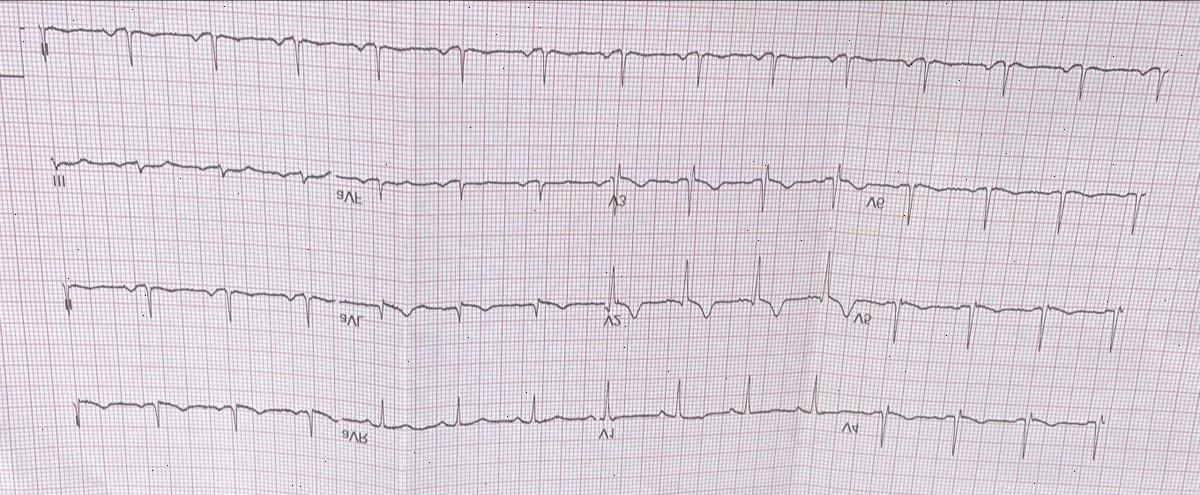Lead_I: (69, 382, 343, 447)
Lead_II: (50, 274, 343, 331)
Lead_III: (40, 138, 334, 203)
Lead_II_ext: (30, 14, 1185, 108)
Lead_V1: (596, 360, 828, 456)
Lead_V2: (599, 236, 847, 340)
Lead_V3: (602, 147, 859, 233)
Lead_V4: (830, 390, 1120, 464)
Lead_V5: (844, 277, 1134, 366)
Lead_V6: (852, 168, 1164, 252)
Lead_aVF: (331, 147, 610, 217)
Lead_aVL: (337, 270, 608, 342)
Lead_aVR: (334, 377, 598, 457)
